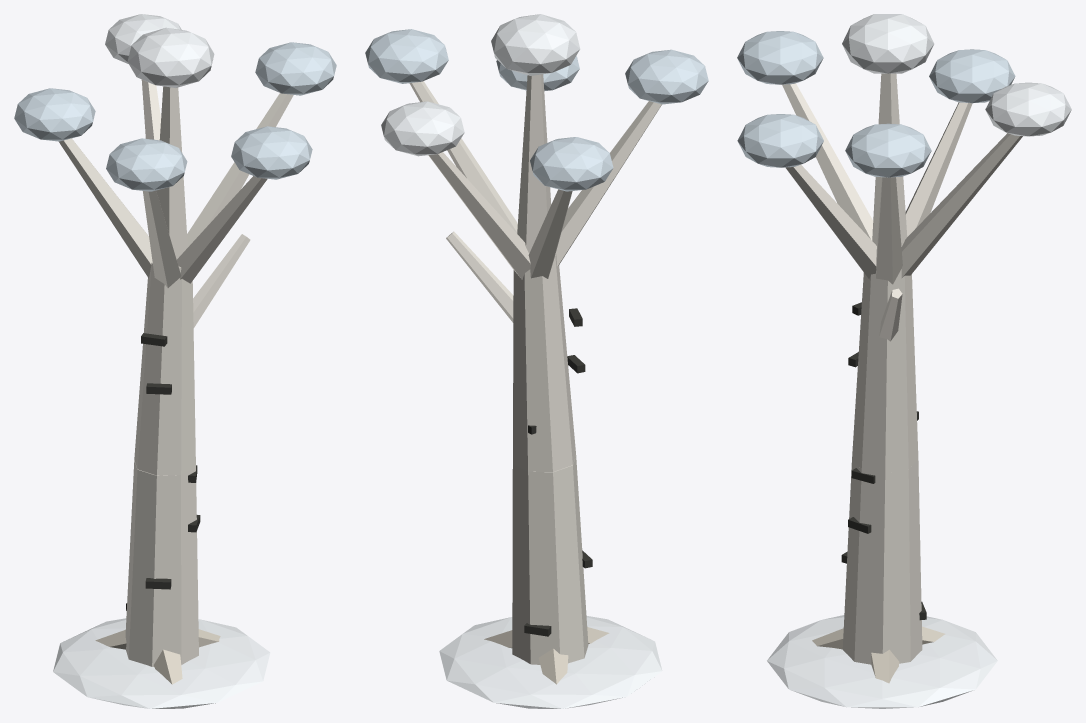
File: tree-birch-winter.glb
3 views of the same model, side by side, from view 1: azimuth 30°, elevation 25°; view 2: azimuth 150°, elevation 25°; view 3: azimuth 270°, elevation 25° (orthographic). The views are drawn at different scales.
Visible parts, largest first — view 1: BirchWinter_Trunk, BirchWinter_Crown; view 2: BirchWinter_Trunk, BirchWinter_Crown; view 3: BirchWinter_Trunk, BirchWinter_Crown.
Part boxes in pixels (left/top/right/bottom): BirchWinter_Trunk: left=59, top=79, right=293, bottom=684; BirchWinter_Crown: left=14, top=14, right=336, bottom=708; BirchWinter_Trunk: left=409, top=74, right=661, bottom=684; BirchWinter_Crown: left=365, top=14, right=708, bottom=708; BirchWinter_Trunk: left=782, top=73, right=1022, bottom=683; BirchWinter_Crown: left=737, top=14, right=1071, bottom=708.
Size of the model in its own units: 1.12 by 2.52 by 1.16.
